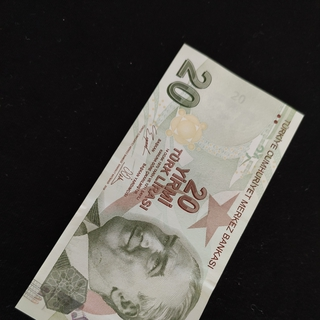20TLFront: (15, 43, 303, 320)
